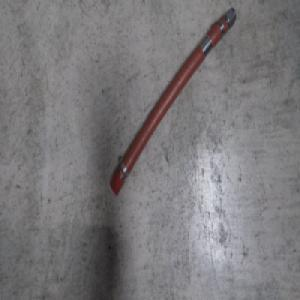Hose: (108, 4, 237, 198)
